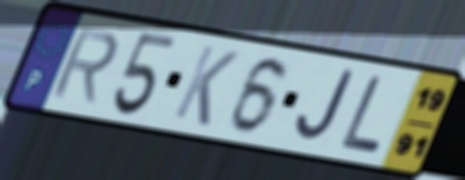5: (109, 29, 180, 118)
6: (229, 54, 292, 136)
J: (293, 67, 358, 146)
K: (170, 41, 243, 129)
L: (337, 72, 387, 155)
R: (46, 25, 123, 106)
